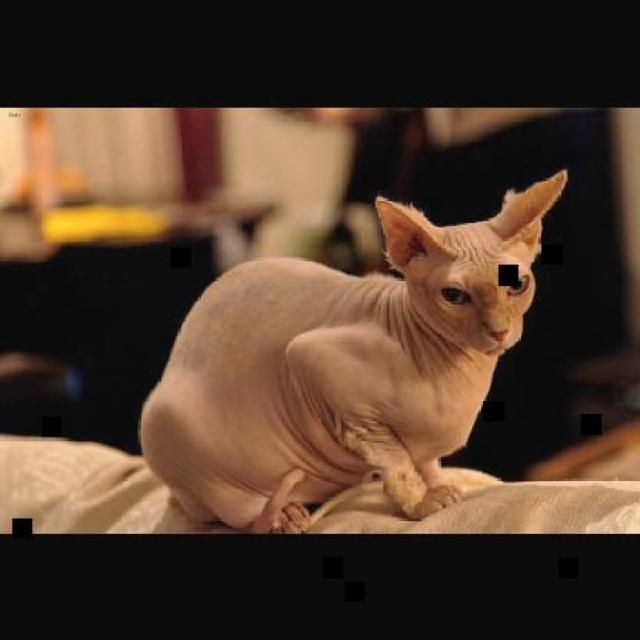unauthorized: (137, 166, 568, 534)
